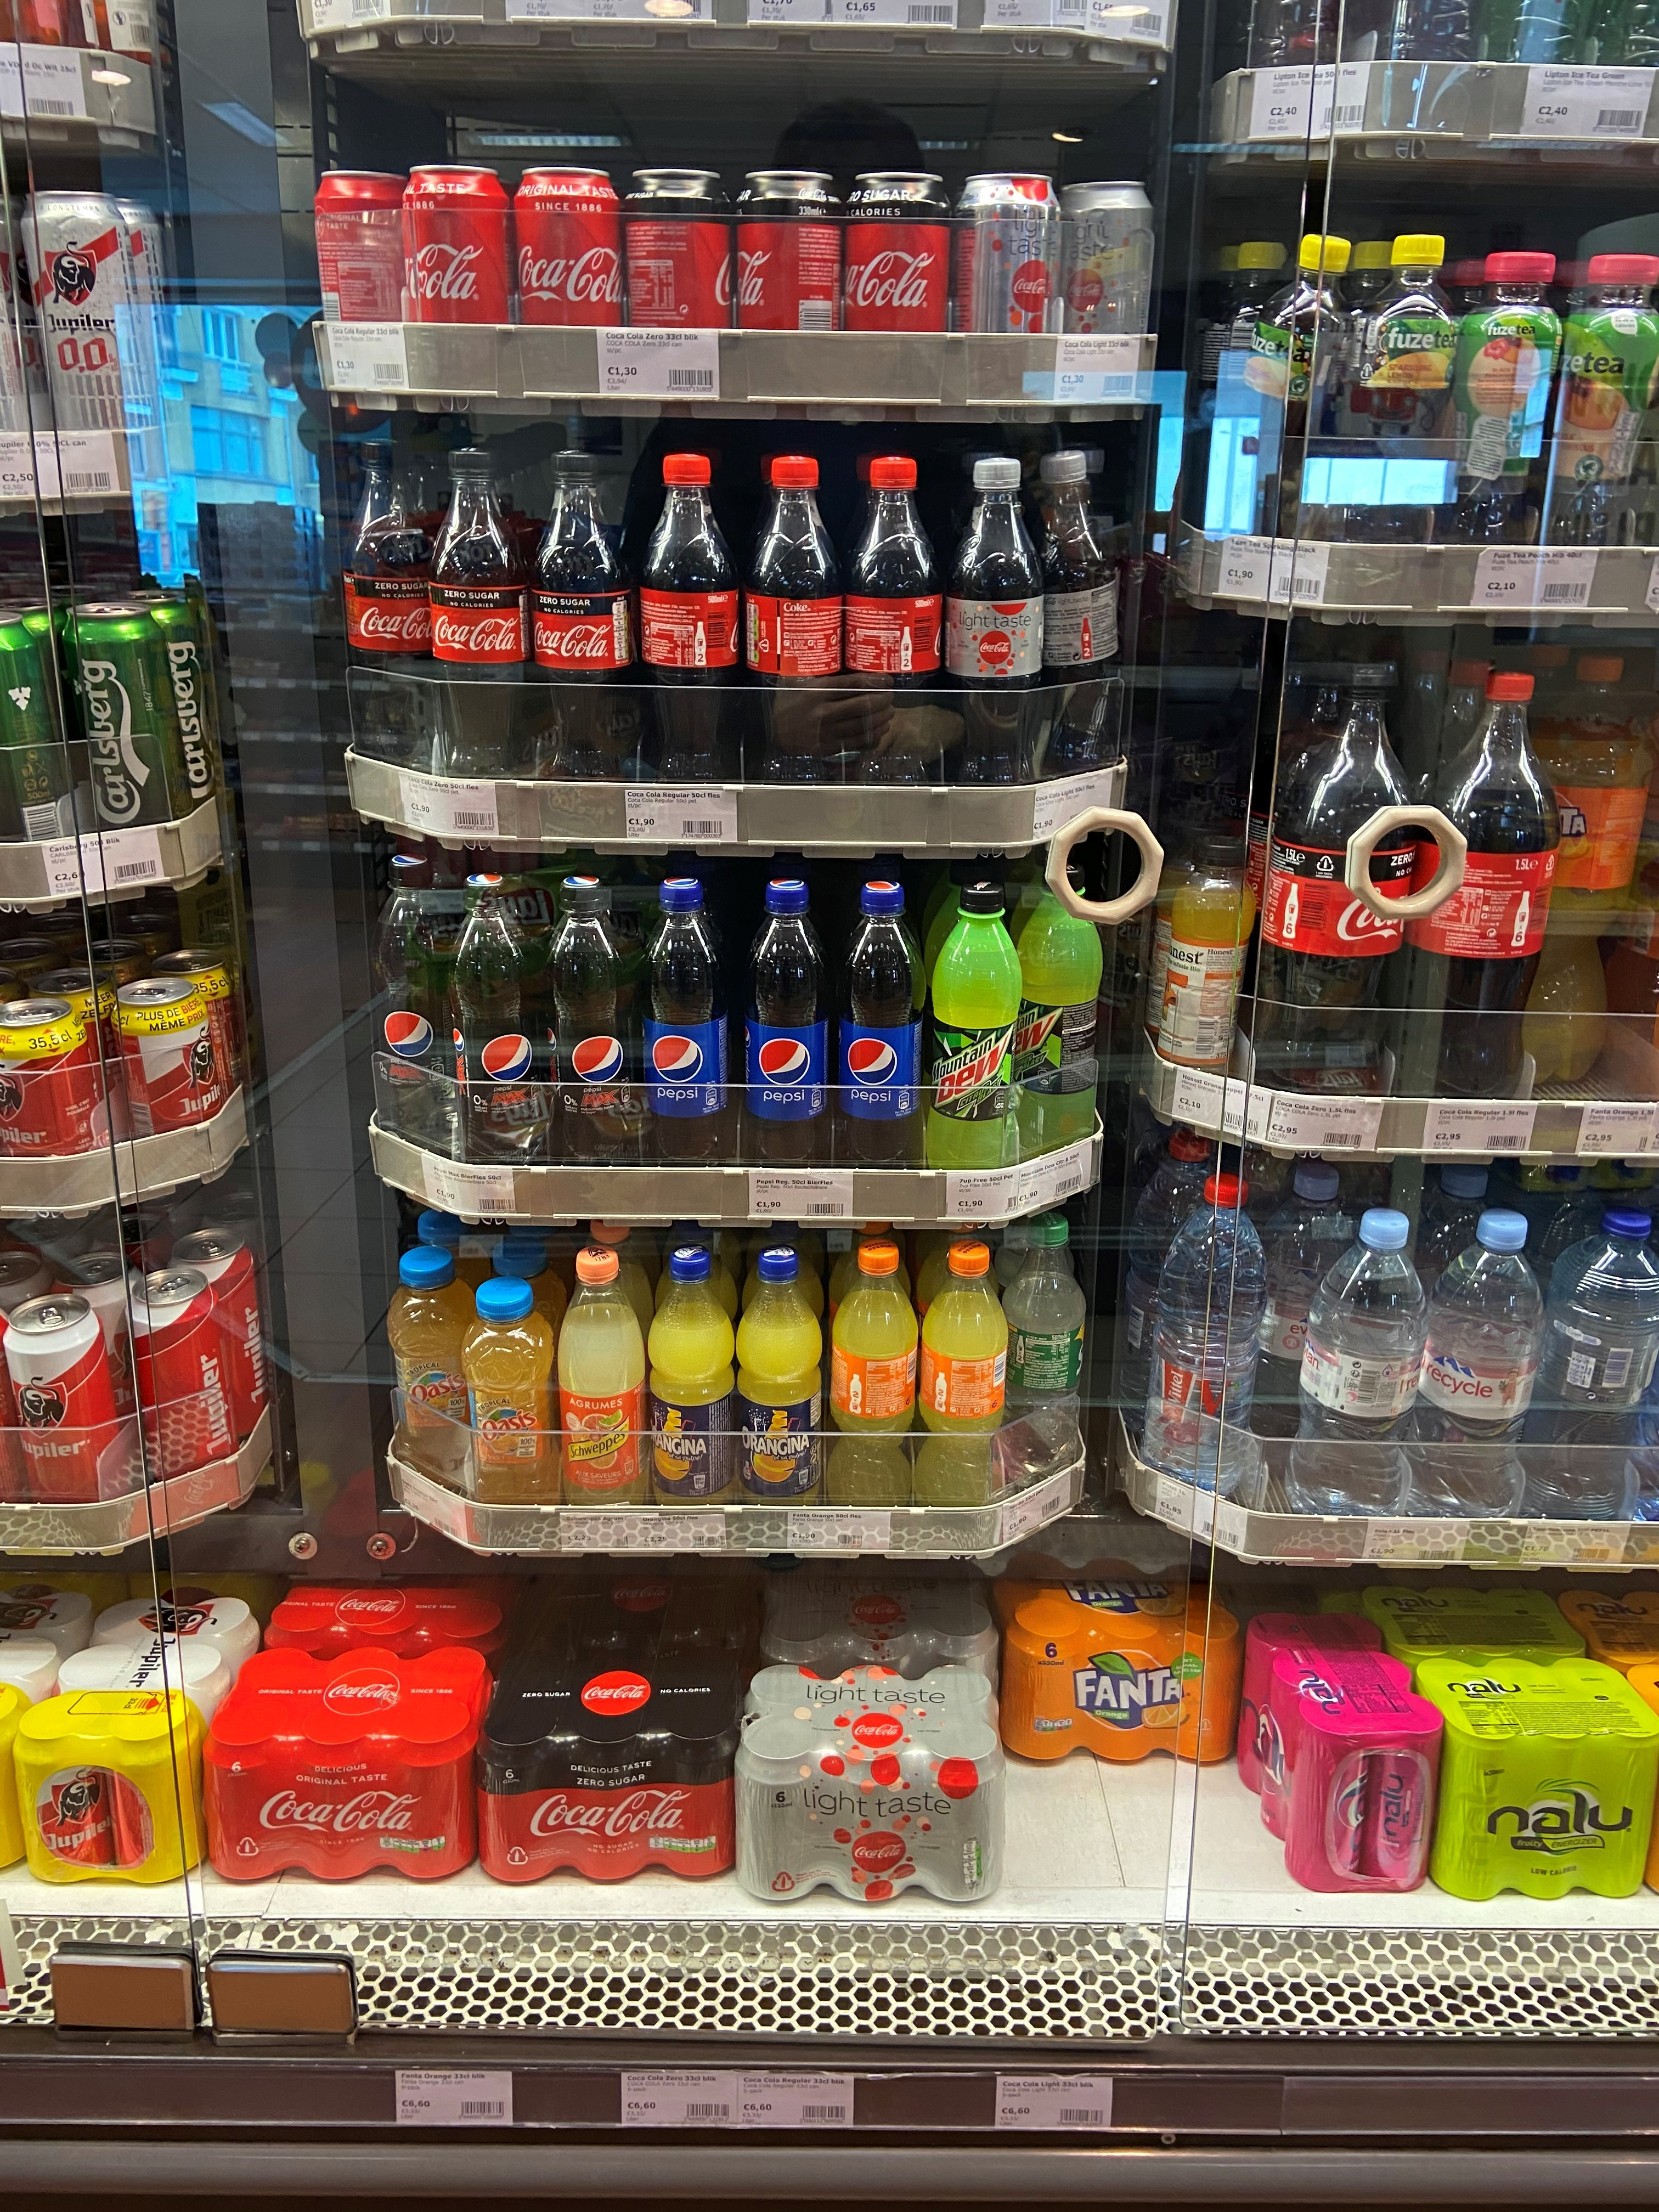CarlsbergOriginal: (63, 603, 192, 869), (0, 613, 58, 871)
ChaudfontaineBlauw1L: (1527, 1207, 1659, 1526)
CocaColaBlik33cl: (509, 165, 626, 359), (401, 164, 512, 352), (312, 167, 410, 350)
CocaColaBlik6x33cl: (202, 1642, 493, 1885)
CocaColaFles1,5L: (1387, 667, 1561, 1115)
CocaColaFles500ml: (636, 453, 739, 782), (742, 455, 843, 787), (845, 456, 943, 789)
CocaColaLightBlik330ml: (953, 172, 1065, 359), (1054, 179, 1155, 362)
CocaColaLightBlik6x330ml: (735, 1662, 1006, 1905)
CocaColaLightFles500ml: (941, 456, 1046, 810), (1030, 446, 1121, 789)
CocaColaZeroBlik330ml: (619, 167, 734, 357), (734, 169, 845, 359), (843, 171, 953, 361)
CocaColaZeroBlik6x330ml: (479, 1646, 746, 1888)
CocaColaZeroFles1,5L: (1246, 655, 1420, 1101)
CocaColaZeroFles500ml: (530, 446, 634, 782), (429, 446, 530, 782), (342, 435, 441, 768)
EvianOriginal1L: (1290, 1209, 1431, 1517), (1413, 1212, 1547, 1527)
FantaOrangeBlik6x330ml: (995, 1559, 1244, 1768)
FantaOrangeFles1,5L: (1499, 651, 1654, 1083)
FantaOrangeFles500ml: (917, 1240, 1011, 1526), (830, 1240, 920, 1526)
FuzeTeaPeachHibiscus: (1544, 249, 1659, 564), (1455, 249, 1563, 545)
FuzeTeaSparklingLemon: (1236, 235, 1356, 545), (1349, 233, 1459, 545)
HonestSinaasappelMango: (1161, 838, 1258, 1082)
Jupiler0,0%Blik50cl: (19, 186, 143, 467)
JupilerBlik35,5cl: (108, 981, 227, 1155), (0, 996, 101, 1183)
JupilerBlik50cl: (2, 1294, 122, 1519), (122, 1266, 239, 1496)
JupilerBlik6x35,5cl: (12, 1597, 261, 1893)
MountainDew: (925, 876, 1025, 1176), (1014, 860, 1107, 1153)
NaluOriginal6x350ml: (1410, 1658, 1654, 1902)
NaluPassion6x350ml: (1241, 1613, 1445, 1900)
OasisTropical50cl: (385, 1245, 476, 1489), (465, 1275, 556, 1515)
Orangina: (735, 1244, 824, 1521), (647, 1244, 735, 1515)
Pepsi: (833, 878, 931, 1183), (732, 878, 835, 1167), (640, 874, 735, 1170)
PepsiMax: (446, 873, 547, 1177), (544, 873, 641, 1169), (373, 852, 457, 1162)
SchweppesAgrum: (556, 1244, 647, 1510)
SpriteFles500ml: (1000, 1211, 1087, 1500)
VittelWater1L: (1140, 1172, 1270, 1500)
